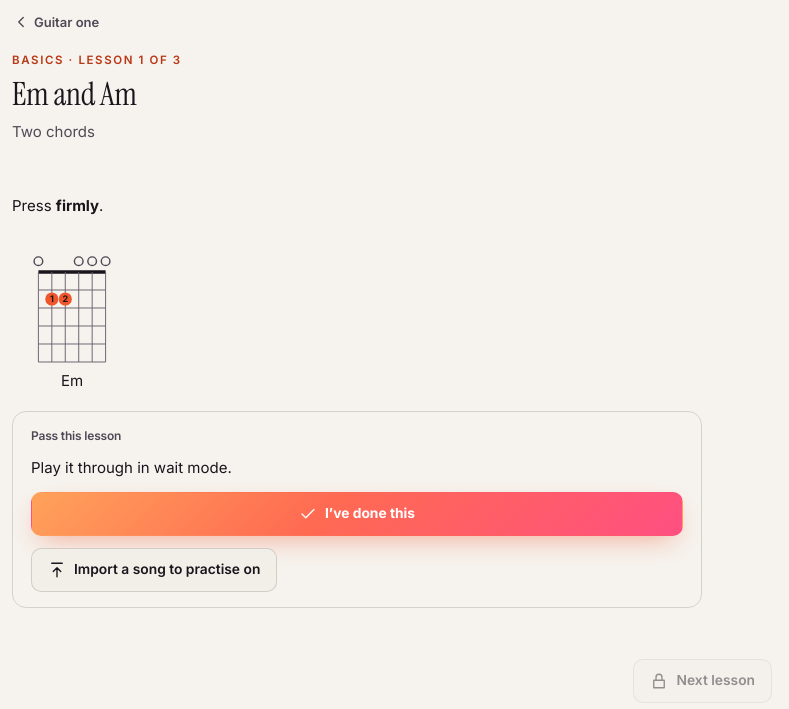
Scenario: LessonView › reports wait mode with one click
This screenshot has width=789, height=709.
Step 1. Click the button with test id "lesson-report-wait" → {"x": 357, "y": 514}, box [31,492,683,536]
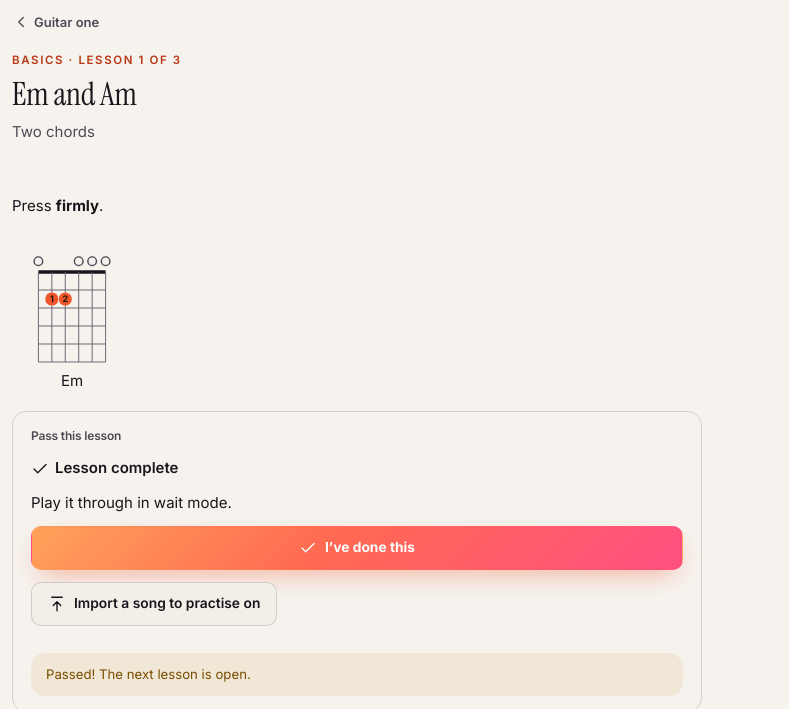
Expected: the message "Passed! The next lesson is open." is shown, [31,653,683,696]
